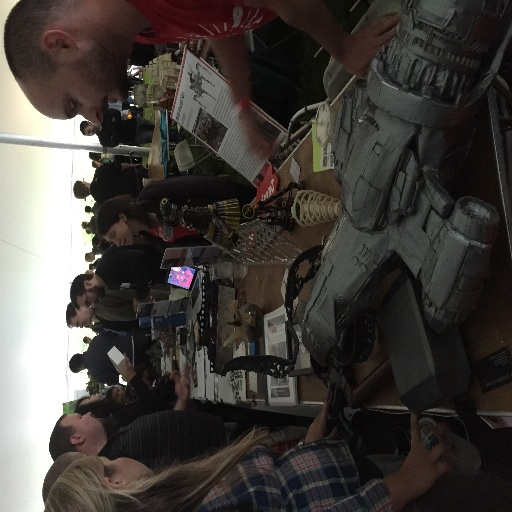hand: (395, 410, 458, 503), (335, 15, 400, 72), (241, 109, 277, 162), (304, 395, 340, 443), (118, 352, 135, 382), (174, 379, 190, 402), (133, 296, 152, 312)
